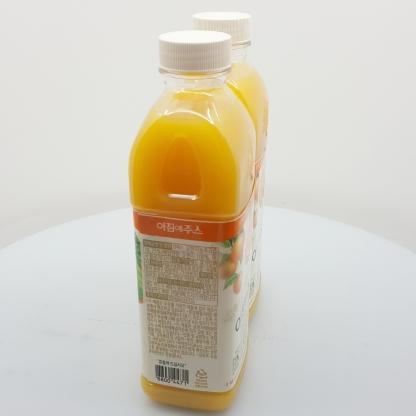----------950ML: (128, 30, 256, 412)
